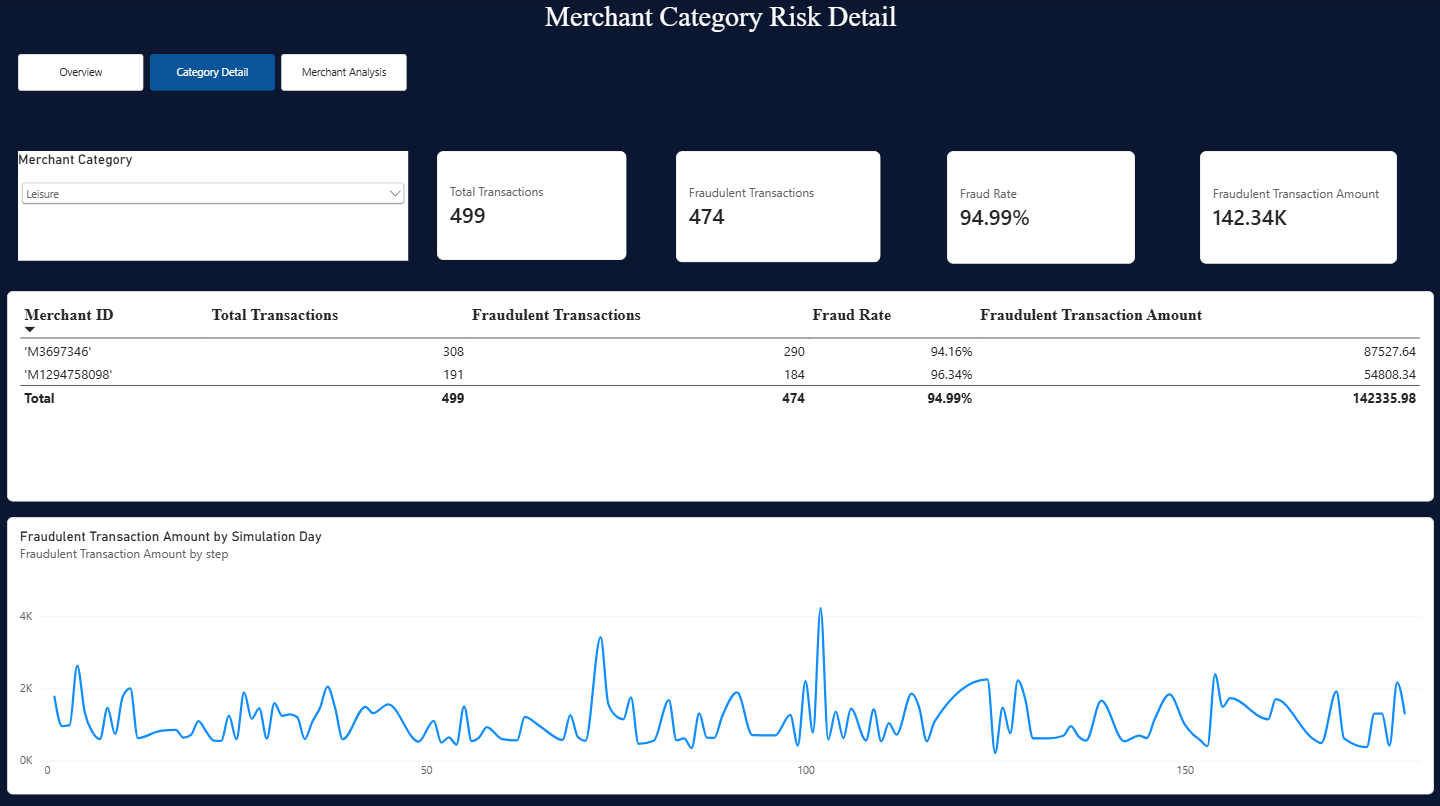

Layout of this report page (visuals, bound fields, positions):
{"tool":"powerbi","page":{"name":"Category Detail","canvas":[1920,1080],"ordinal":1},"visuals":[{"type":"pageNavigator","box":[24.8,71.5,519.4,49.6],"z":0},{"type":"textbox","box":[0,0,1920,71.5],"z":1},{"type":"slicer","title":"Merchant Category","fields":{"Values":["bs140513_032310.category"]},"box":[25.3,200.8,519.4,145.9],"z":2},{"type":"cardVisual","fields":{"Data":["bs140513_032310.Total Transactions"]},"box":[582.1,201.3,252.4,145.9],"z":3},{"type":"cardVisual","fields":{"Data":["bs140513_032310.Fraudulent Transactions"]},"box":[900.2,201.3,272.8,148.8],"z":4},{"type":"cardVisual","fields":{"Data":["bs140513_032310.Fraud Rate"]},"box":[1260.5,201.3,250.9,150.3],"z":5},{"type":"cardVisual","fields":{"Data":["bs140513_032310.Fraudulent Transaction Amount"]},"box":[1597.6,201.3,262.6,150.3],"z":6},{"type":"lineChart","title":"Fraudulent Transaction Amount by Simulation Day","fields":{"Category":["bs140513_032310.step"],"Y":["bs140513_032310.Fraudulent Transaction Amount"]},"box":[10.2,687.2,1898.1,369.1],"z":7},{"type":"tableEx","fields":{"Values":["bs140513_032310.merchant","bs140513_032310.Total Transactions","bs140513_032310.Fraudulent Transactions","bs140513_032310.Fraud Rate","bs140513_032310.Fraudulent Transaction Amount"]},"box":[10.2,386.6,1898.1,280.1],"z":8}]}

Visuals, with their boxes in screenshot pixels (x1, y1, x2, y2), scaled from the page's 1920x1080 canvas onto the 1440x806 screenshot:
pageNavigator: region(19, 53, 408, 90)
textbox: region(0, 0, 1439, 53)
"Merchant Category" slicer: region(19, 150, 409, 259)
cardVisual - bs140513_032310.Total Transactions: region(437, 150, 626, 259)
cardVisual - bs140513_032310.Fraudulent Transactions: region(675, 150, 880, 261)
cardVisual - bs140513_032310.Fraud Rate: region(945, 150, 1134, 262)
cardVisual - bs140513_032310.Fraudulent Transaction Amount: region(1198, 150, 1395, 262)
"Fraudulent Transaction Amount by Simulation Day" lineChart: region(8, 513, 1431, 788)
tableEx - bs140513_032310.merchant x bs140513_032310.Total Transactions: region(8, 289, 1431, 498)
